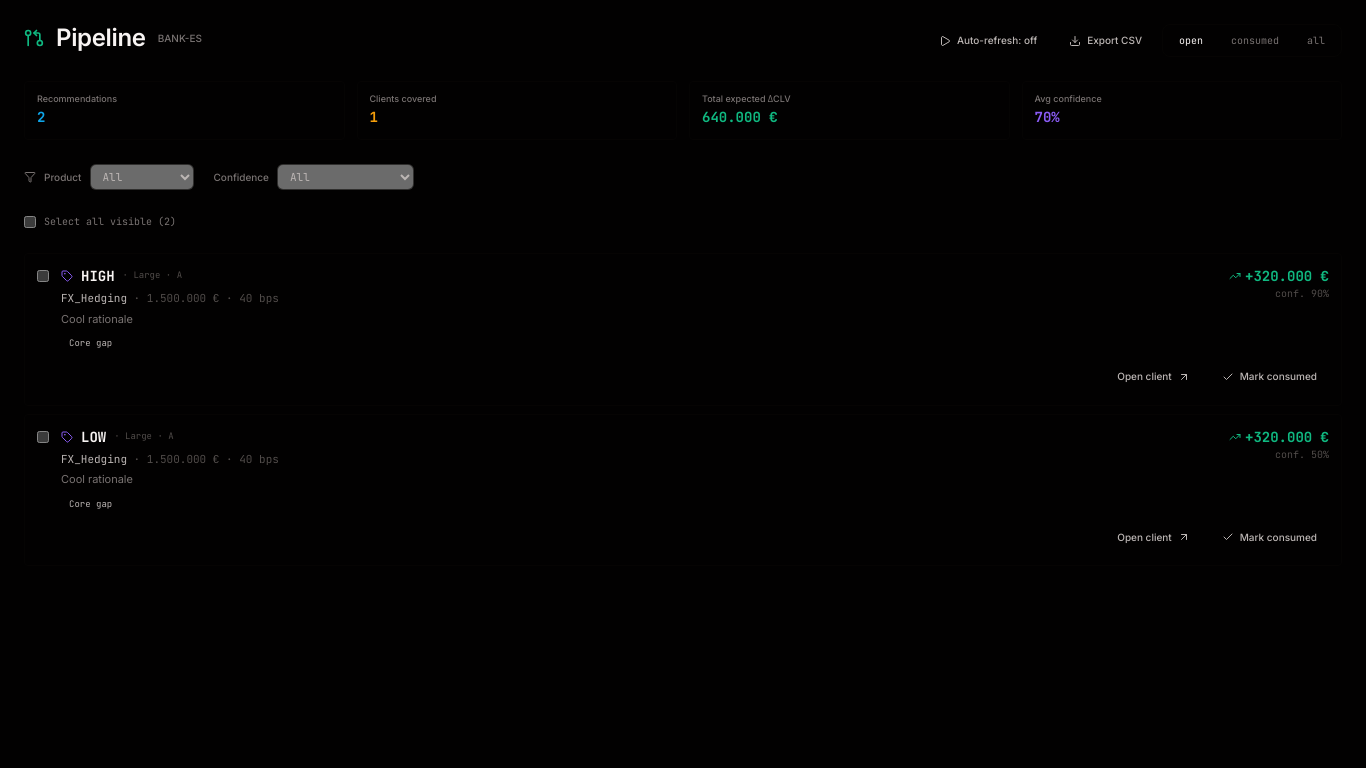
Test: PipelineView › filters by confidence band (high = >=80%)
Expected: the text "HIGH" is shown, [81,266,115,286]
Step 1. Select "High (≥80%)" in the dropdown with test id "pipeline-filter-confidence" → (346, 177), box [277,164,414,190]
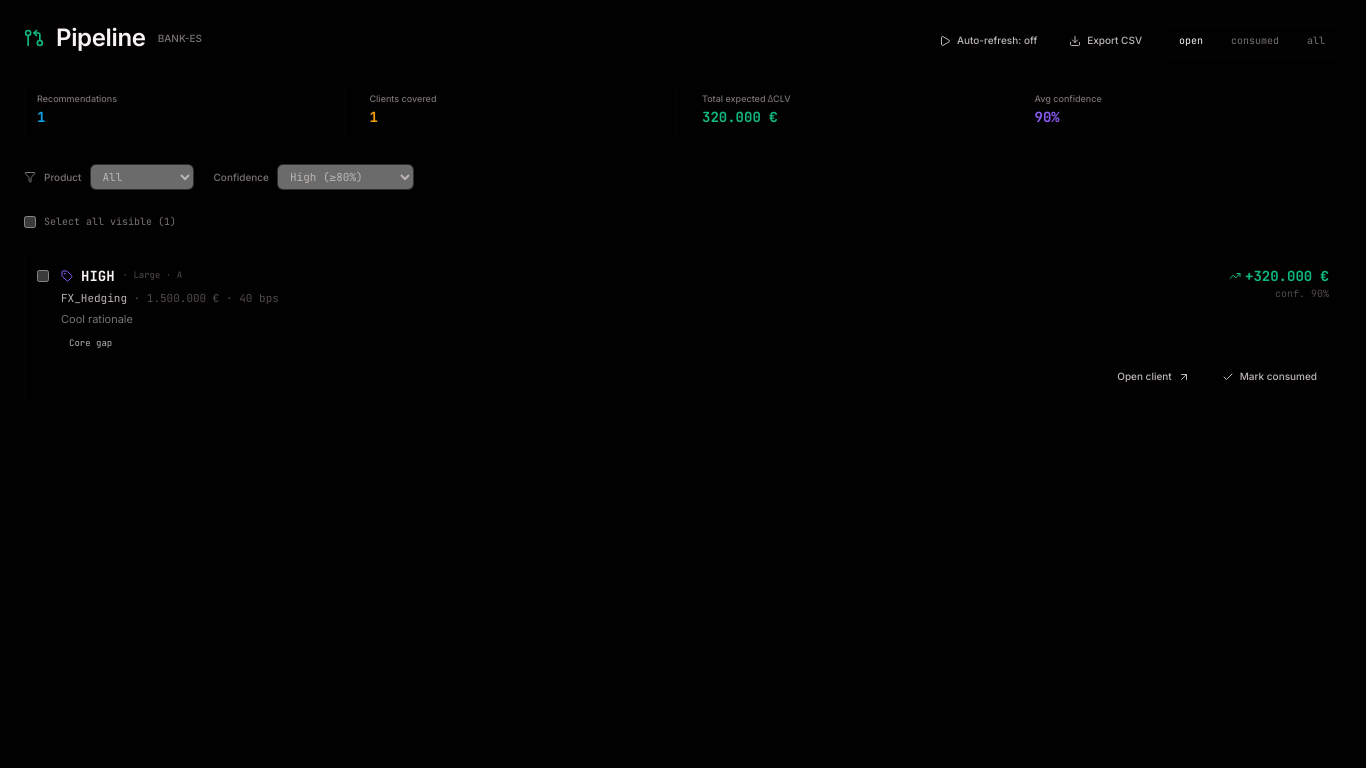
Expected: the text "HIGH" is shown, [81,266,115,286]
Now the text "LOW" is gone
